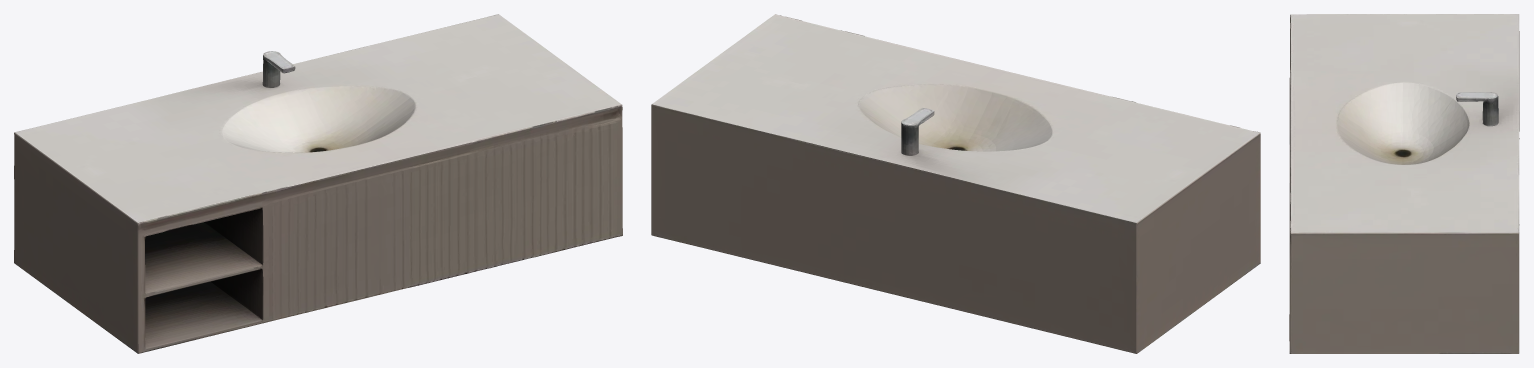
The picture shows the model from 3 angles, left to right: view 1: azimuth 30°, elevation 25°; view 2: azimuth 150°, elevation 25°; view 3: azimuth 270°, elevation 25°; orthographic projection. The views are drawn at different scales.
Visible parts, largest first — view 1: world; view 2: world; view 3: world.
Part boxes in pixels (x1=…): world: x1=14, y1=14, x2=622, y2=353; world: x1=651, y1=14, x2=1260, y2=353; world: x1=1289, y1=14, x2=1519, y2=353.
Size of the model in its own units: 1 by 0.318 by 0.4439.
Materials: 1 (1 with a texture image).
